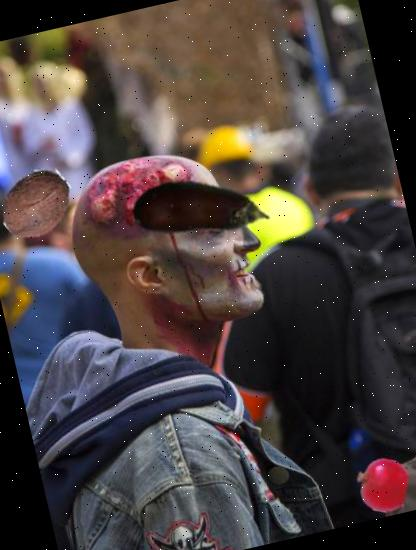Cocos: (0, 156, 79, 247)
Eggplant: (116, 123, 282, 290)
Redcurrant: (349, 452, 414, 517)
